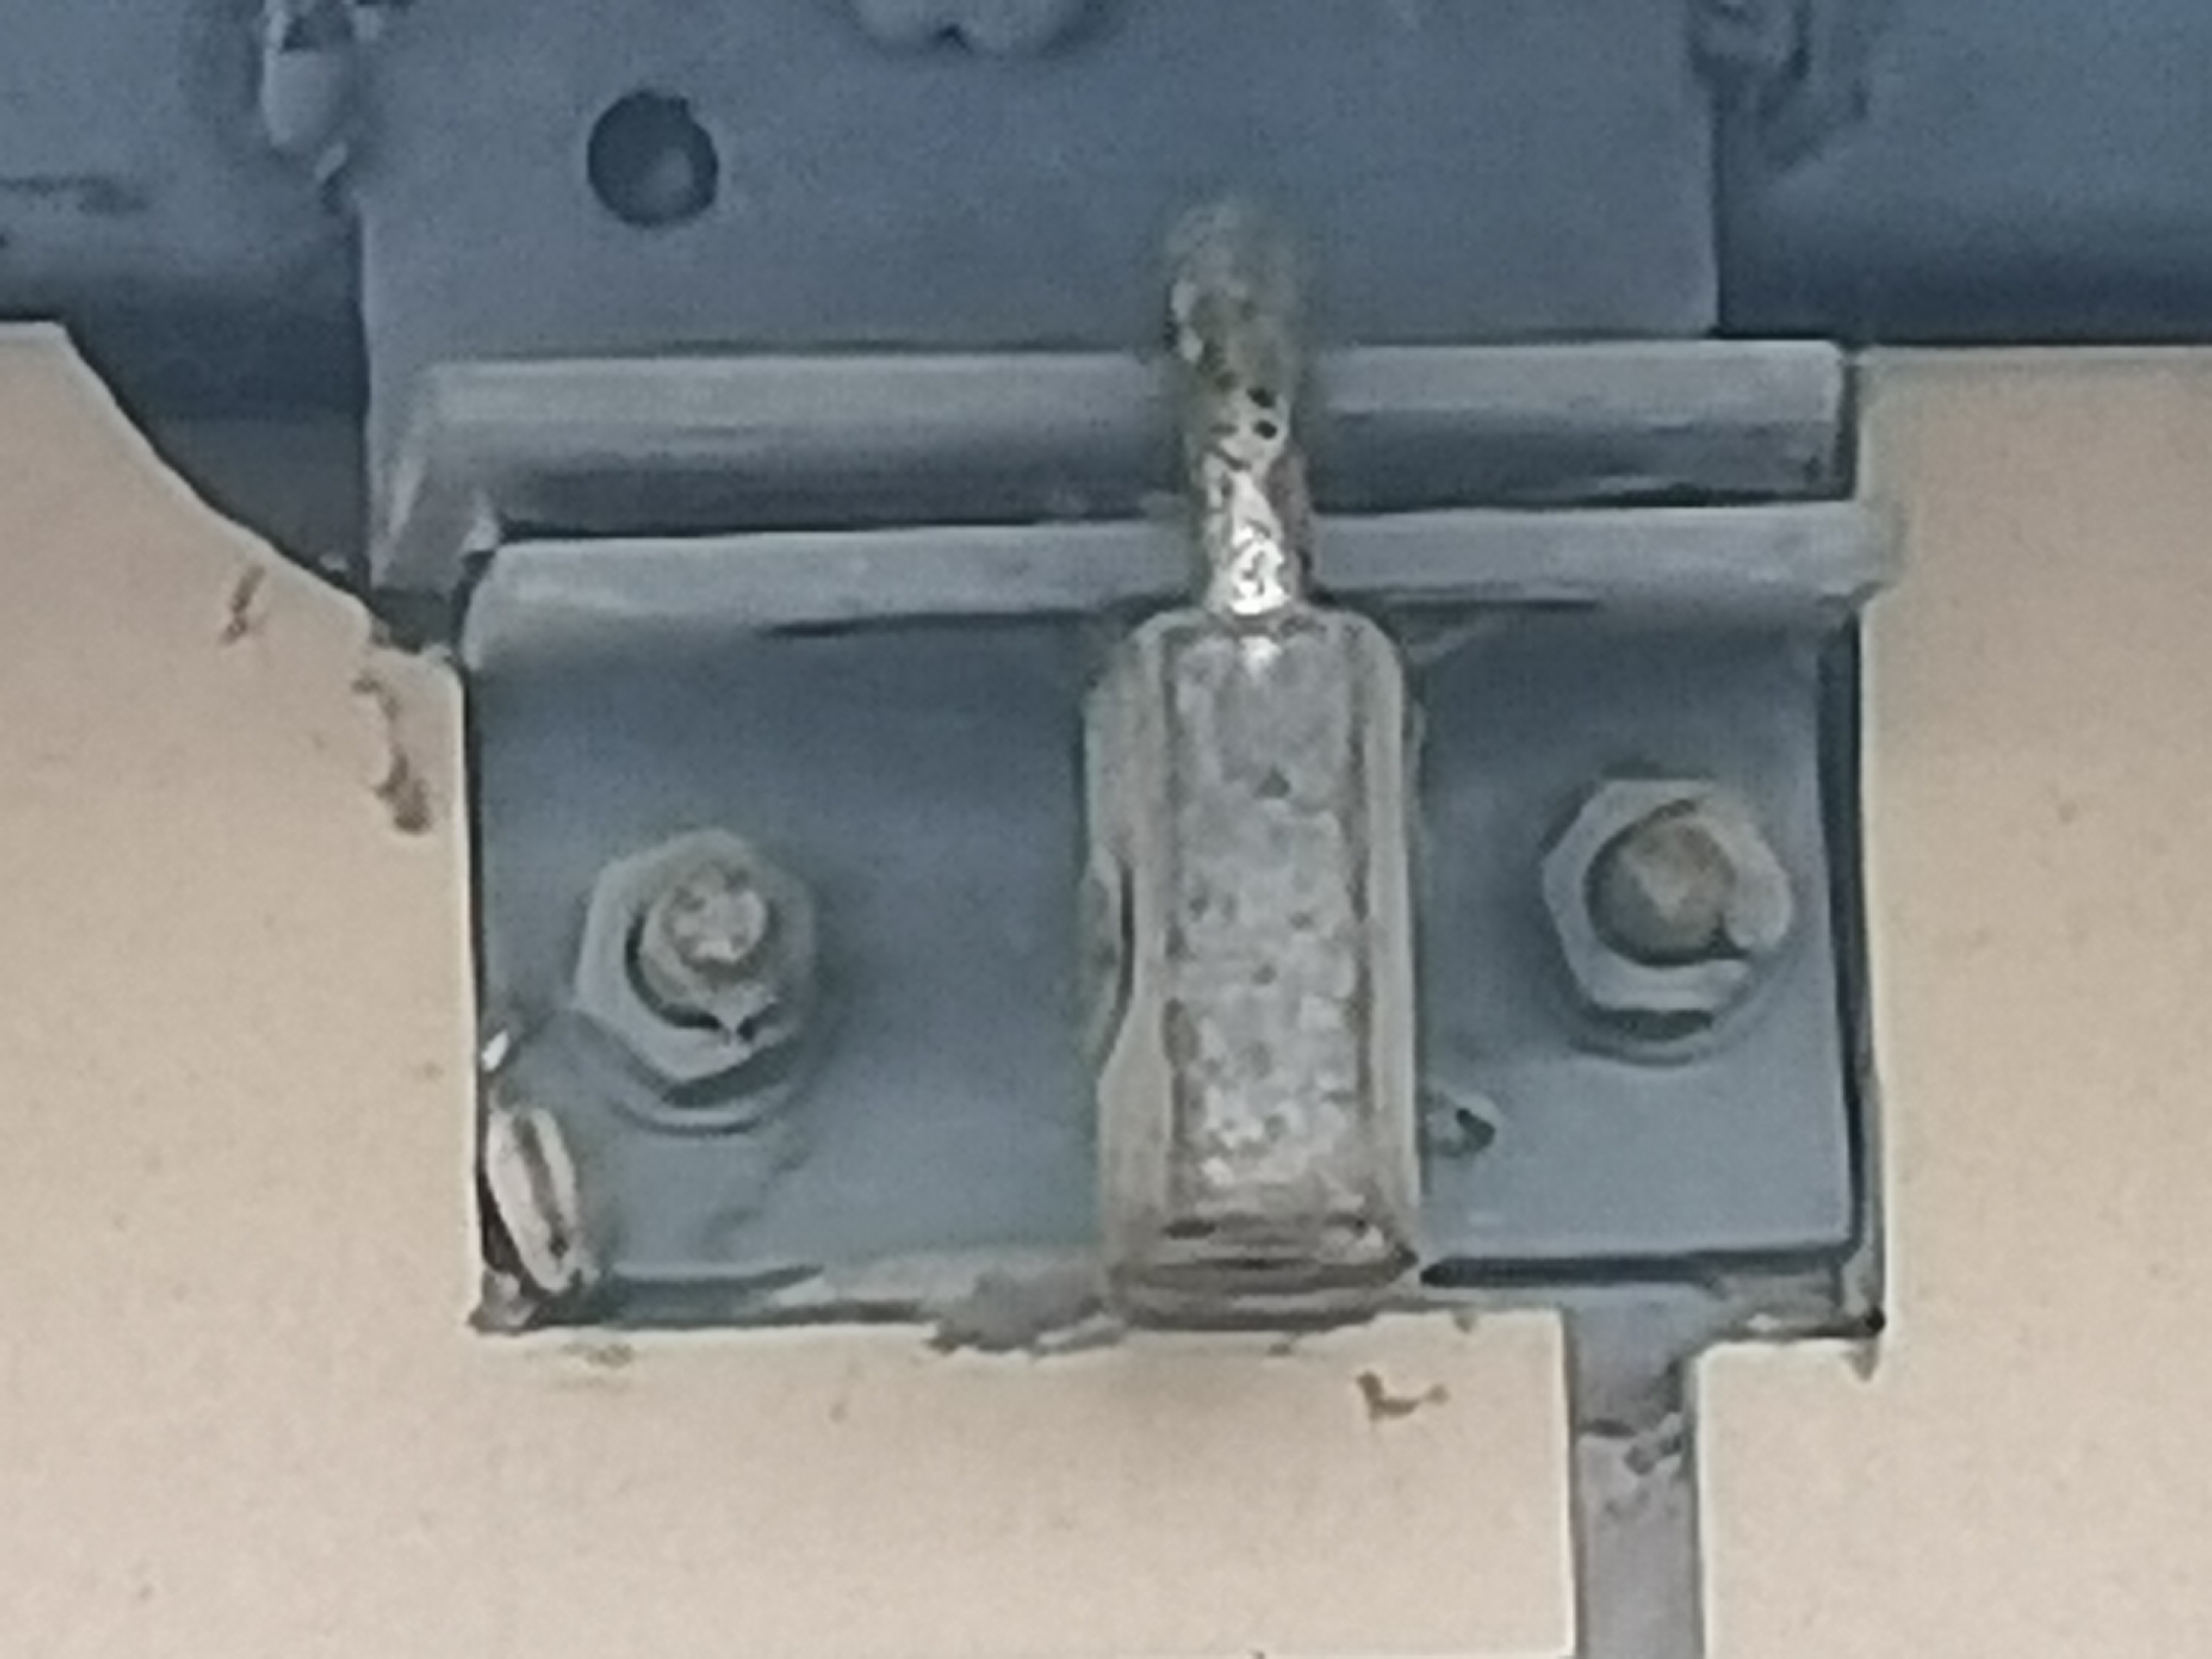bolt_b: (1510, 760, 1815, 1061), (542, 816, 838, 1121)
